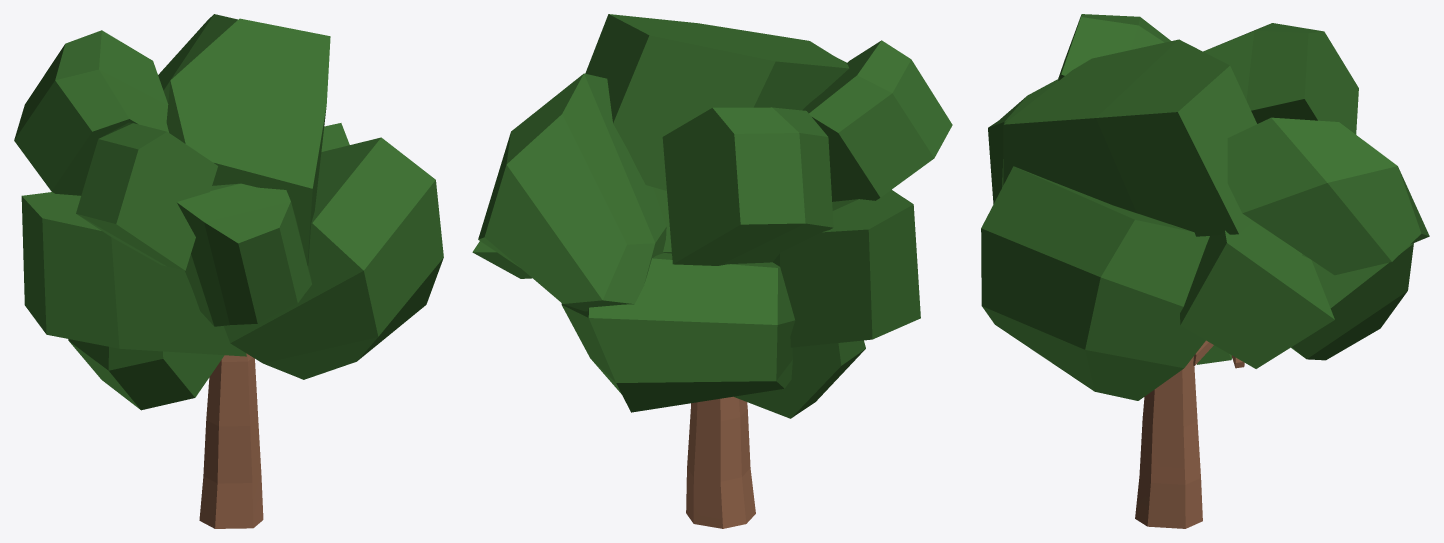
File: CS_Tree.fbx
3 renders of one model, left to right at view 1: azimuth 30°, elevation 25°; view 2: azimuth 150°, elevation 25°; view 3: azimuth 270°, elevation 25°, orthographic. The views are drawn at different scales.
Visible parts, largest first — view 1: Tree; view 2: Tree; view 3: Tree.
Part boxes in pixels (x1,y1,x2,y2): Tree: [14, 14, 443, 528]; Tree: [472, 14, 952, 528]; Tree: [981, 14, 1429, 528].
Size of the model in its own units: 313 by 390 by 338.
